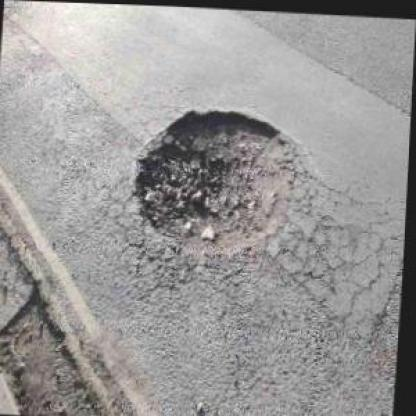pothole: (126, 100, 322, 252), (0, 278, 126, 414)
